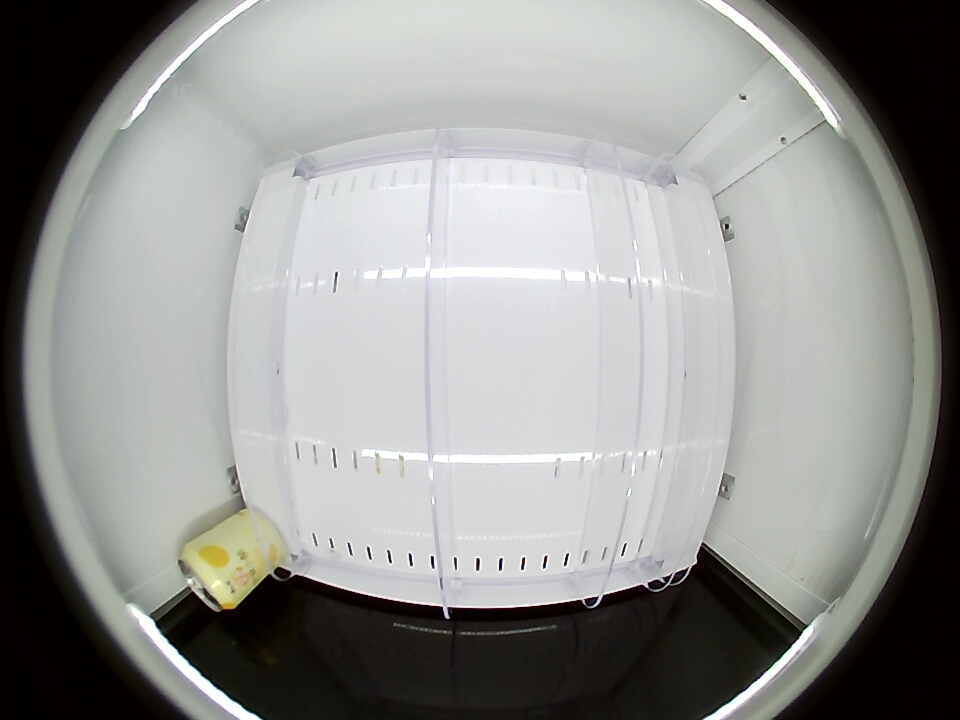mangguoxiaolao: (178, 542, 239, 611)
